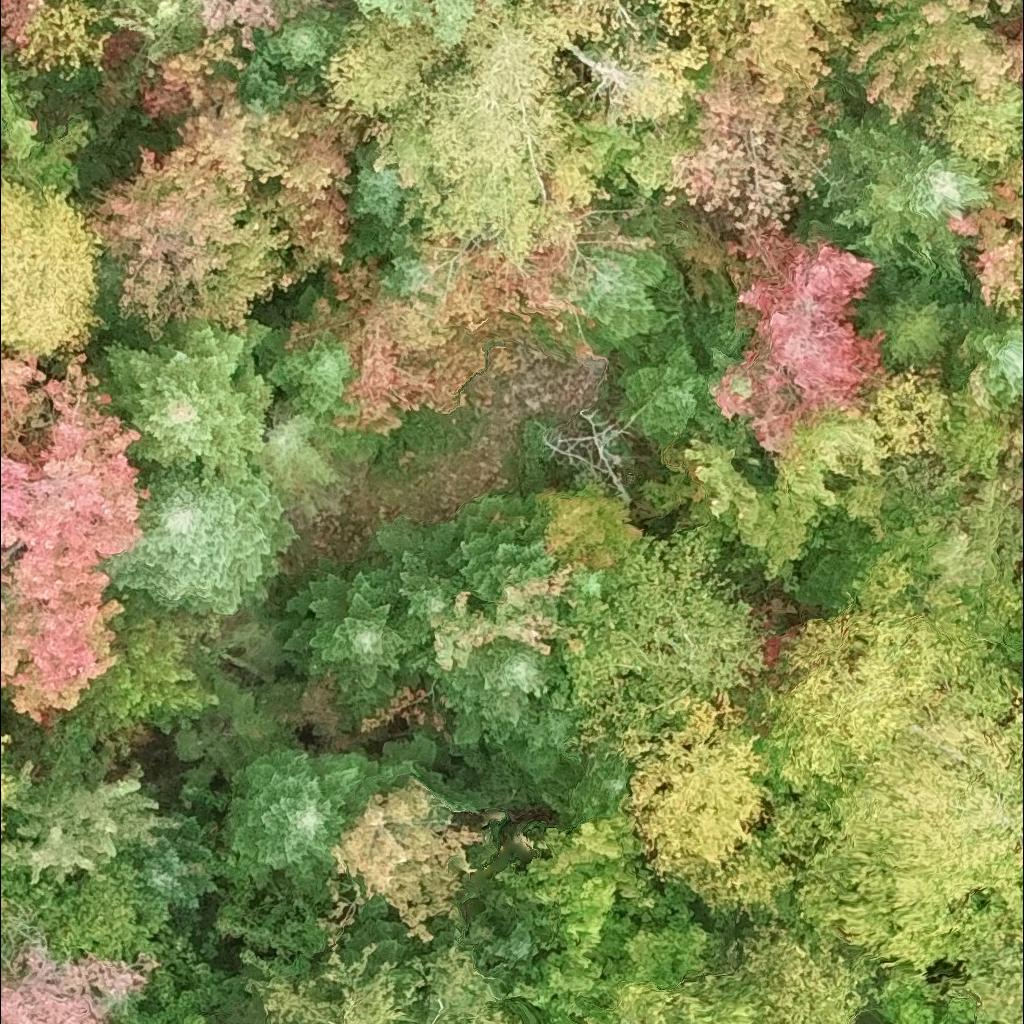crown: (749, 555, 1023, 996), (641, 351, 1023, 586), (83, 95, 392, 344), (370, 0, 601, 267), (0, 354, 149, 719), (562, 526, 773, 761), (500, 803, 711, 1023), (289, 261, 532, 439), (664, 6, 842, 230), (626, 687, 797, 920), (720, 232, 884, 452), (423, 207, 652, 361), (106, 459, 298, 614), (588, 924, 873, 1023), (319, 776, 483, 946), (227, 744, 414, 887), (879, 465, 1023, 647), (108, 318, 271, 469), (0, 760, 178, 887), (847, 0, 1023, 124), (834, 130, 988, 270), (433, 638, 584, 769), (0, 176, 101, 363), (292, 565, 422, 698), (319, 9, 461, 121), (0, 52, 98, 200), (0, 940, 158, 1023), (916, 64, 1023, 176), (947, 151, 1023, 306), (585, 28, 713, 117), (454, 499, 560, 606), (259, 944, 402, 1023), (463, 884, 560, 1000), (133, 27, 249, 124), (622, 346, 725, 454), (405, 930, 520, 1023), (575, 242, 673, 348), (243, 6, 350, 103), (530, 482, 648, 569), (852, 277, 955, 366), (134, 811, 222, 904), (384, 524, 458, 634), (17, 0, 112, 80), (631, 0, 766, 56), (195, 0, 327, 55), (350, 151, 413, 254), (564, 735, 632, 829), (953, 941, 1023, 1023), (356, 0, 474, 47), (965, 316, 1023, 407), (503, 0, 616, 46), (713, 415, 779, 485), (752, 0, 853, 43), (986, 631, 1023, 716), (0, 0, 48, 54), (997, 417, 1023, 506), (994, 261, 1023, 321), (0, 761, 18, 835), (1003, 17, 1023, 45), (0, 894, 12, 935), (0, 729, 11, 755)
